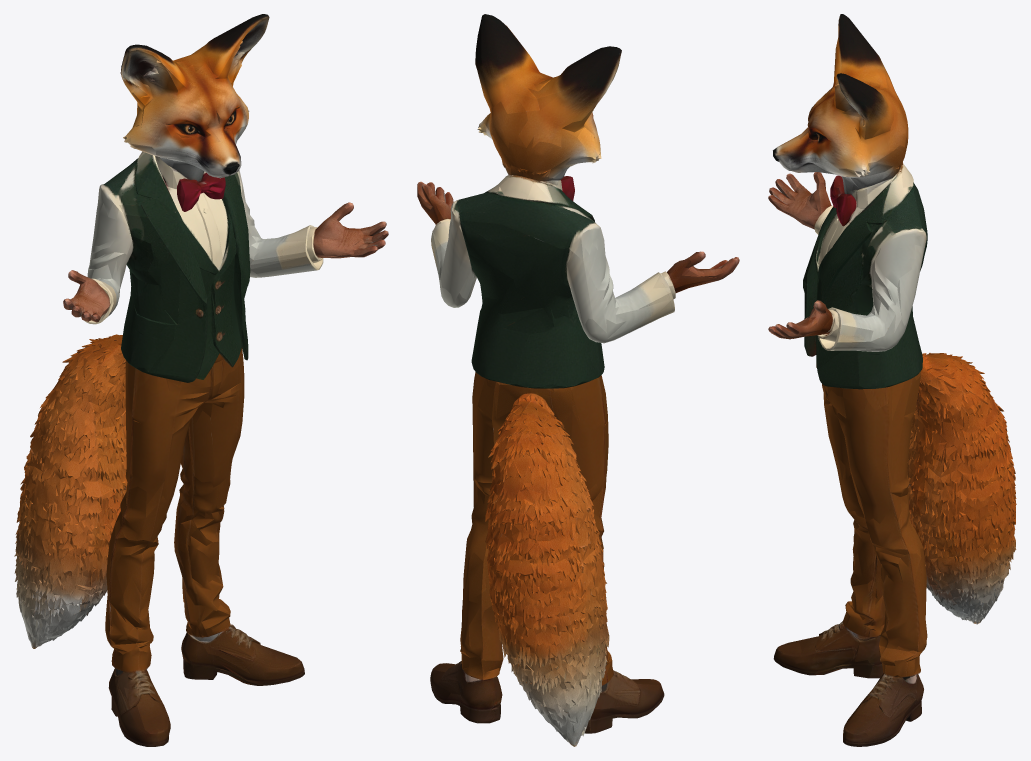
Rendered from tilki-mesh.glb.
The picture shows the model from 3 angles, left to right: view 1: azimuth 30°, elevation 25°; view 2: azimuth 150°, elevation 25°; view 3: azimuth 270°, elevation 25°; orthographic projection. The views are drawn at different scales.
Bounding box in the file's own units: 0.9448 × 1.9 × 0.656.
Materials: 1 (1 with a texture image).
